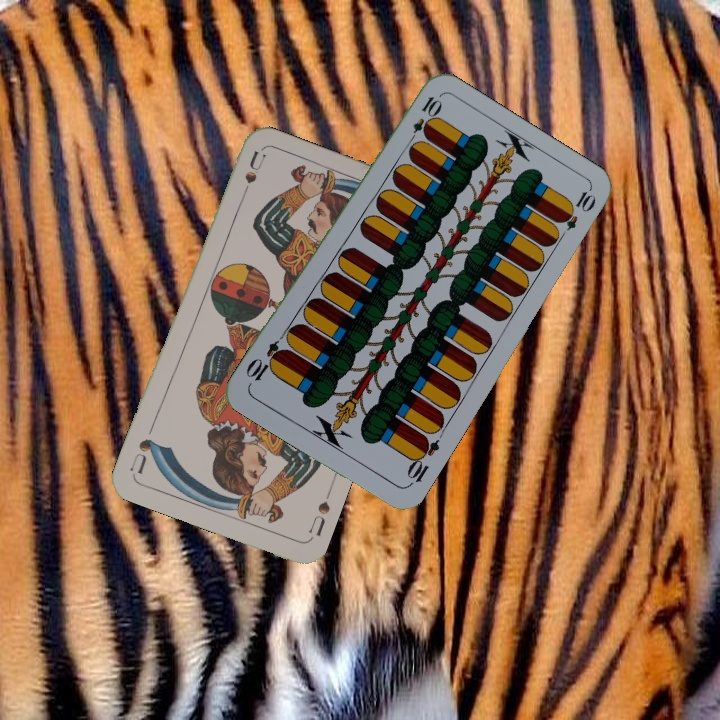E10: (402, 432, 442, 489), (404, 92, 443, 148)
SU: (235, 147, 267, 206), (304, 485, 335, 539)
